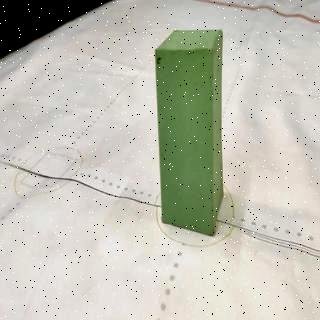greenbox: (155, 29, 225, 236)
